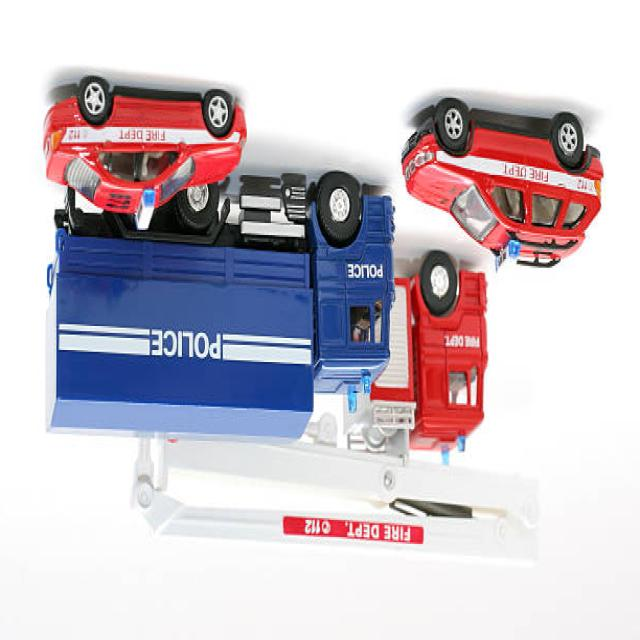Car: (402, 98, 604, 273), (43, 76, 248, 223)
